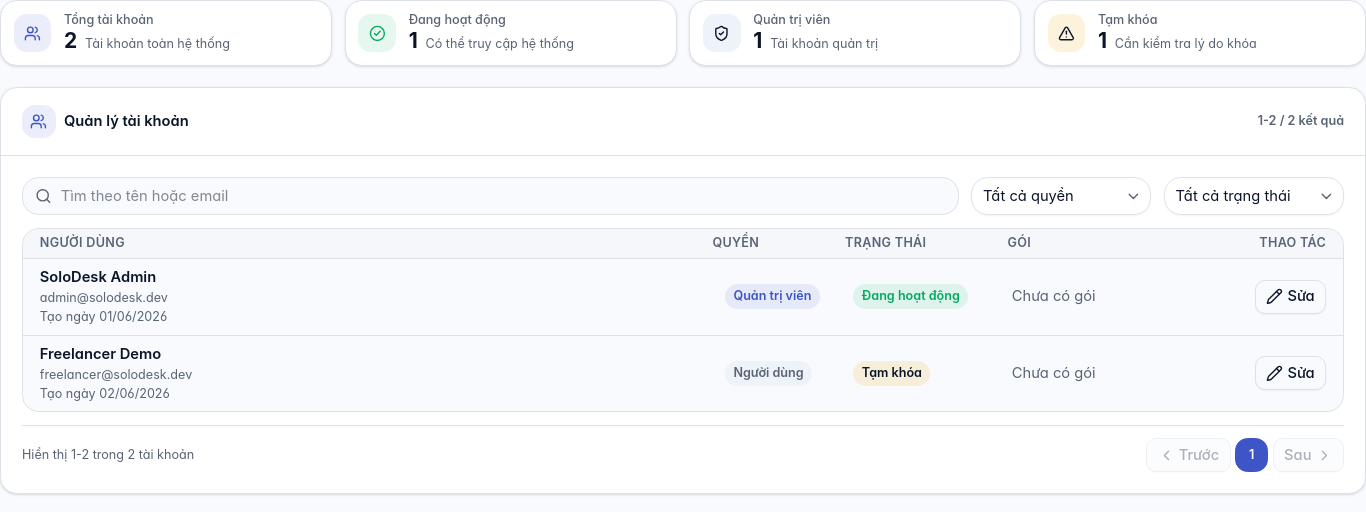
Scenario: <AdminUsersPage /> — ô chọn hiện nhãn tiếng Việt › chọn lọc 'Đang hoạt động' xong thì ô chọn ghi tiếng Việt, không ghi 'active'
This screenshot has width=1366, height=512.
Click the dropdown named "Lọc trạng thái".
click(1254, 196)  # box [1164, 177, 1344, 215]
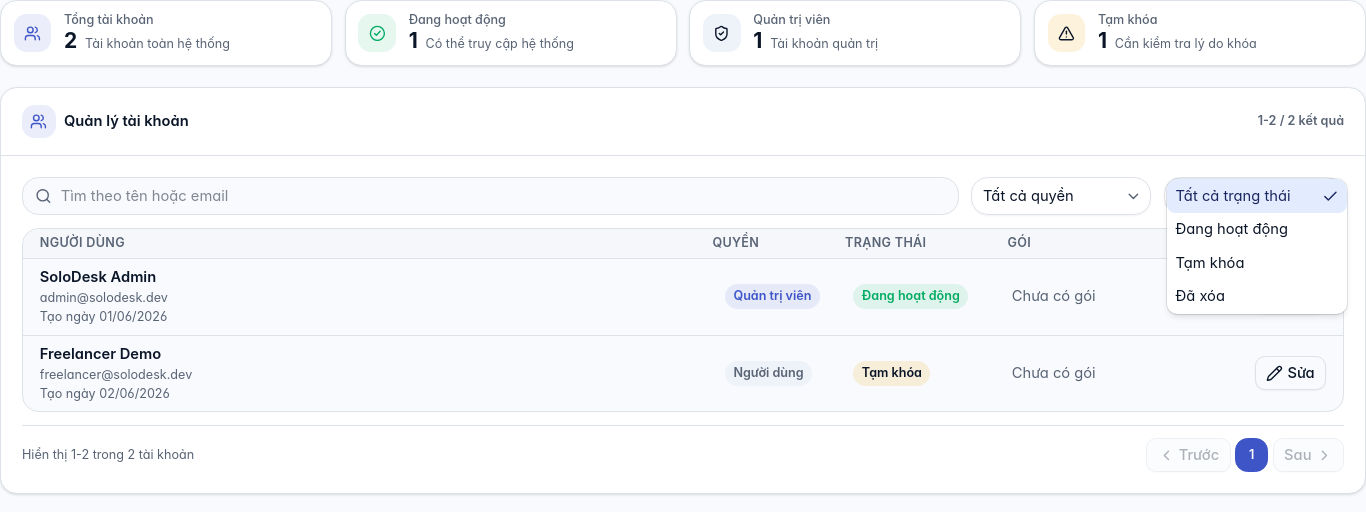
Click the option "Đang hoạt động".
click(1232, 229)  # box [1176, 220, 1288, 238]
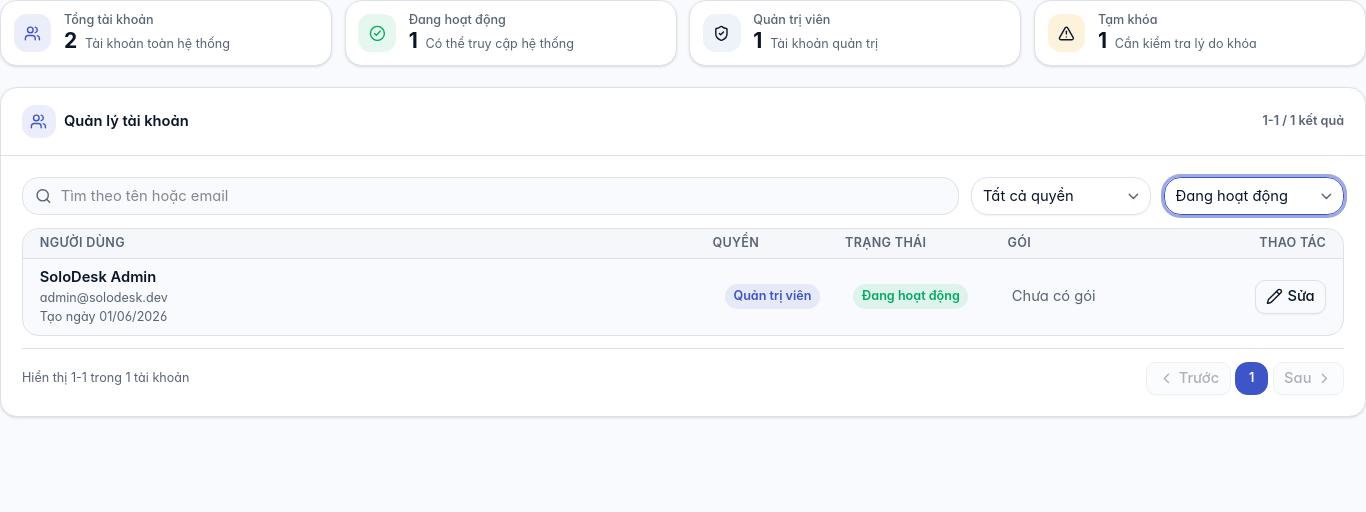
Expected: the dropdown named "Lọc trạng thái" does not show "active", [1164, 177, 1344, 215]
Result: the dropdown named "Lọc trạng thái" shows "Đang hoạt động" at [1164, 177, 1344, 215]
